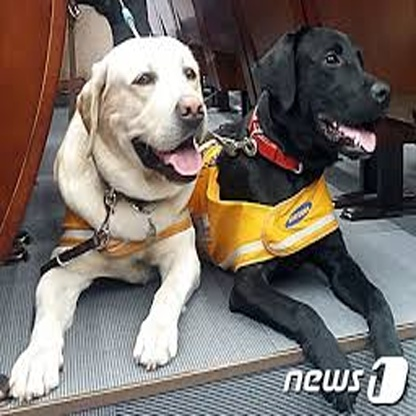guide-dog: (207, 22, 411, 392), (19, 27, 205, 396)
